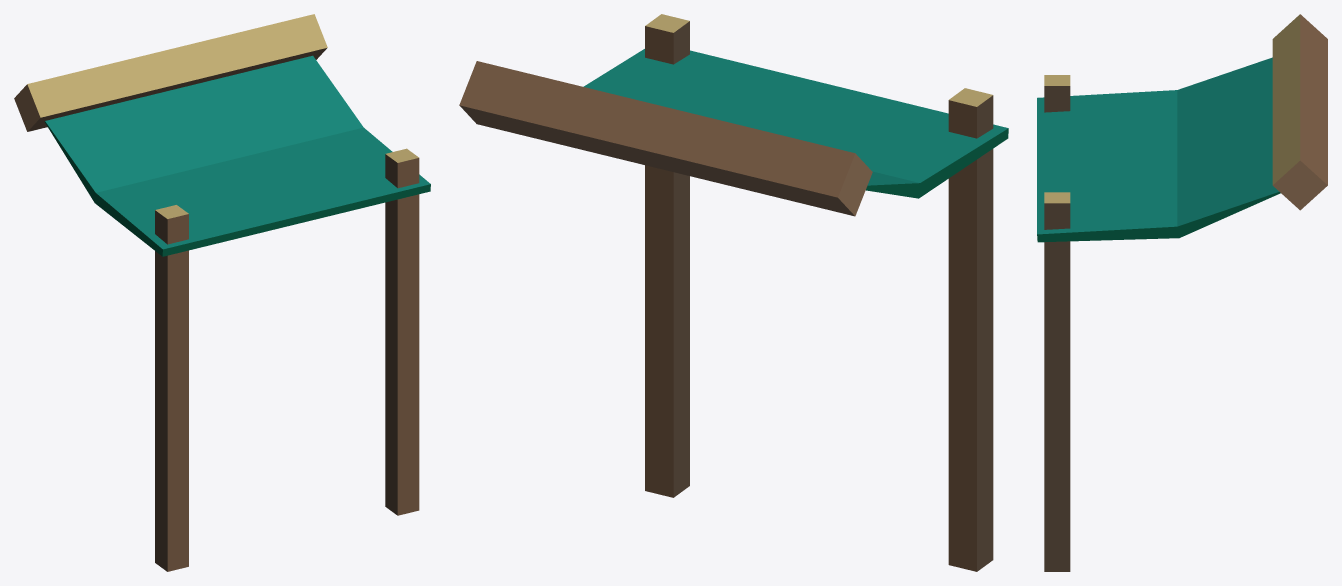
Rendered from TB_D_Bd_Canopy_Leg_G.FBX.
3 renders of one model, left to right at view 1: azimuth 30°, elevation 25°; view 2: azimuth 150°, elevation 25°; view 3: azimuth 270°, elevation 25°, orthographic. The views are drawn at different scales.
Parts seen in each view (by area): view 1: TB_D_Bd_Canopy_Leg_G; view 2: TB_D_Bd_Canopy_Leg_G; view 3: TB_D_Bd_Canopy_Leg_G.
Part boxes in pixels (left/top/right/bottom): TB_D_Bd_Canopy_Leg_G: left=14, top=14, right=430, bottom=571; TB_D_Bd_Canopy_Leg_G: left=459, top=14, right=1008, bottom=571; TB_D_Bd_Canopy_Leg_G: left=1037, top=14, right=1327, bottom=571.
Size of the model in its own units: 1.88 by 2.52 by 1.58.
